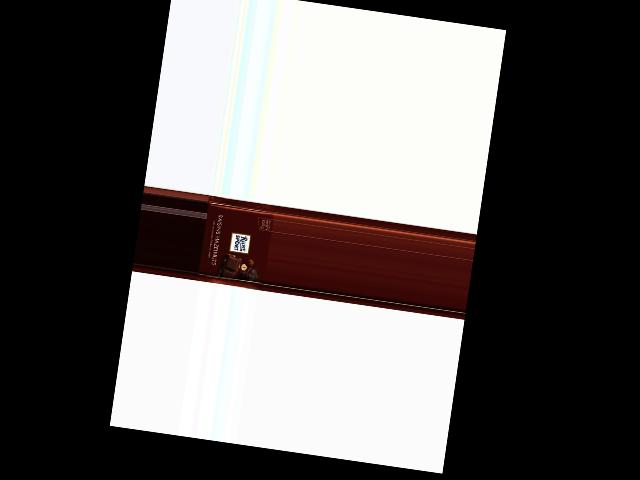chocolate: (196, 195, 275, 292)
